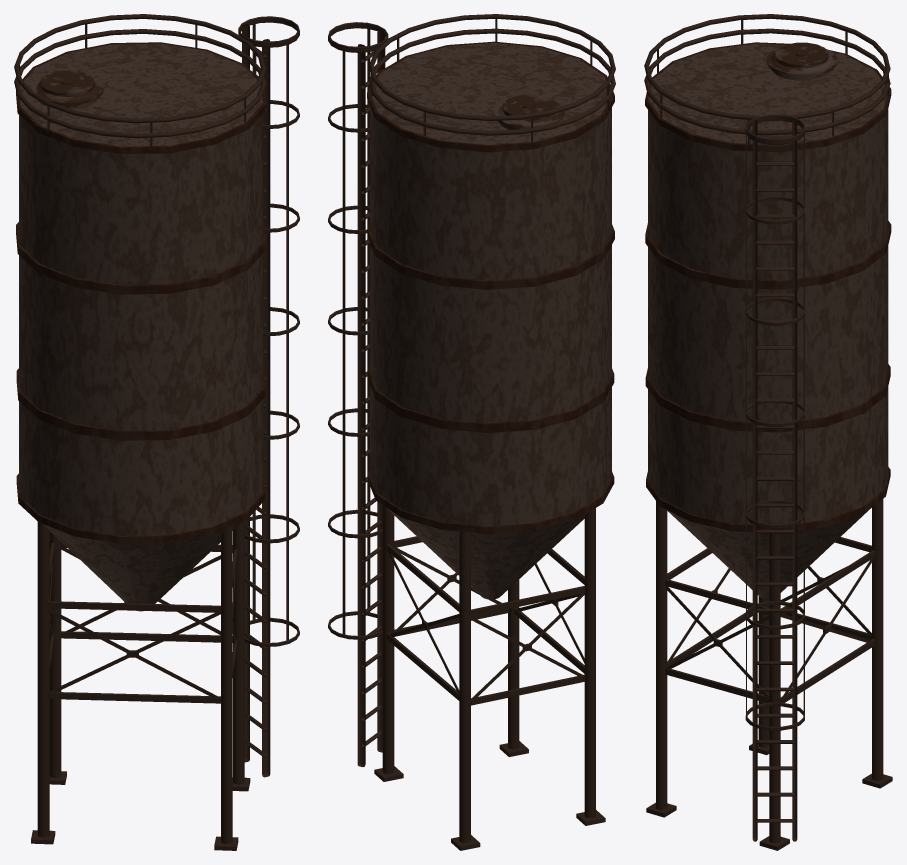
File: EP_Thinoil_001.fbx
The picture shows the model from 3 angles, left to right: view 1: azimuth 30°, elevation 25°; view 2: azimuth 150°, elevation 25°; view 3: azimuth 270°, elevation 25°; orthographic projection. The views are drawn at different scales.
Visible parts, largest first — view 1: Cube.004; view 2: Cube.004; view 3: Cube.004.
Part boxes in pixels (x1,y1,x2,y2): Cube.004: [14, 14, 299, 850]; Cube.004: [328, 14, 615, 850]; Cube.004: [644, 14, 892, 850].
Bounding box in the file's own units: 1239 × 3268 × 1004.
4 materials, 3 textured.
